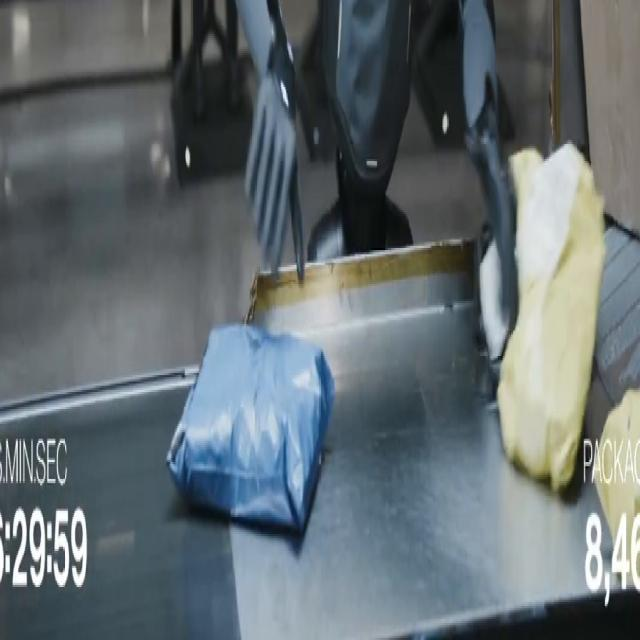package: (498, 145, 604, 491), (168, 325, 334, 531), (581, 0, 639, 235), (589, 390, 639, 574)
